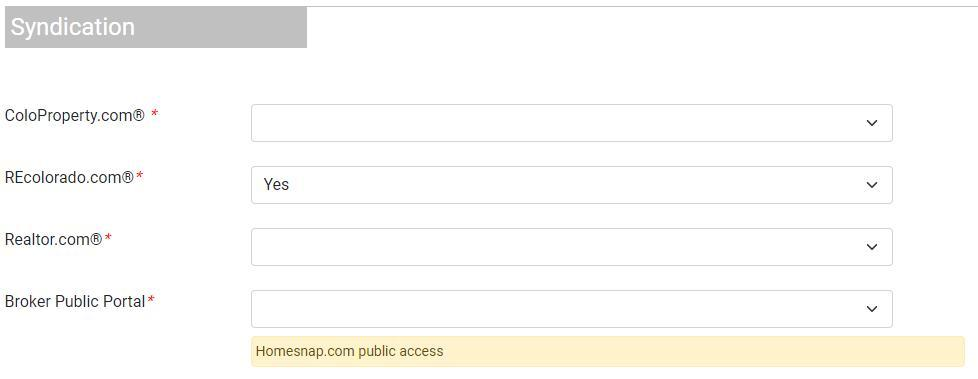dropdown: (254, 168, 896, 206), (252, 106, 894, 143), (251, 230, 893, 266), (252, 291, 893, 327)
label: (6, 6, 149, 49), (6, 97, 164, 131), (6, 162, 150, 190), (5, 291, 162, 315), (4, 230, 117, 251)
